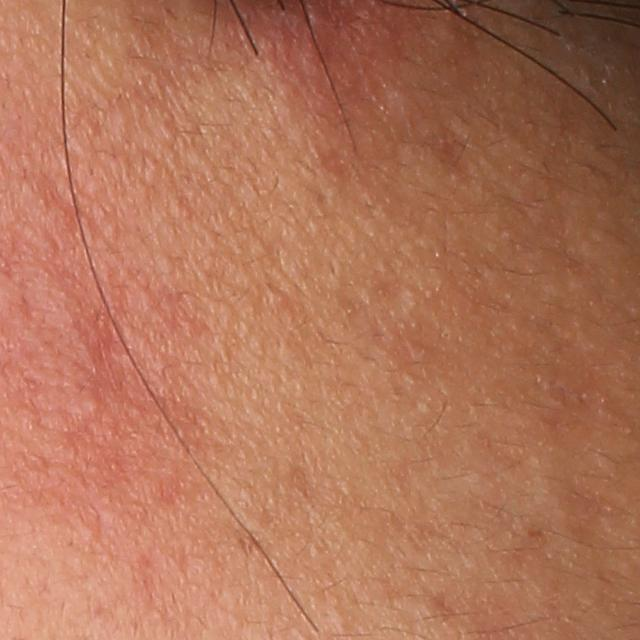comedo: (78, 390, 107, 420)
